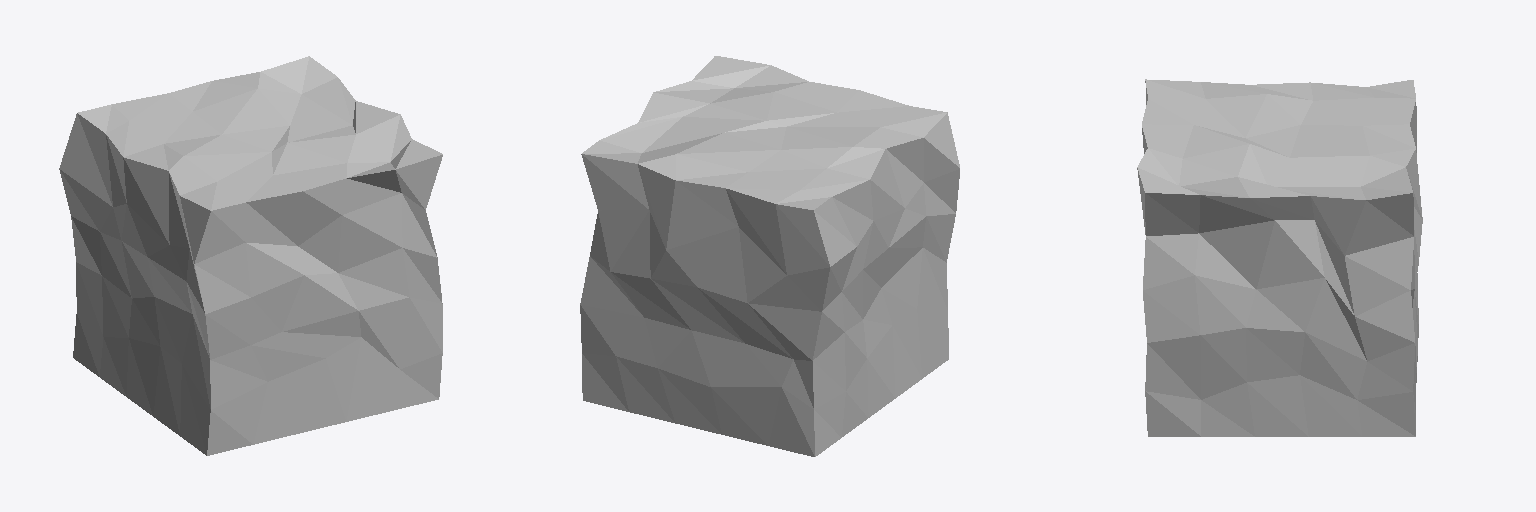
The model's file is Block3.obj.
The picture shows the model from 3 angles: view 1: azimuth 30°, elevation 25°; view 2: azimuth 150°, elevation 25°; view 3: azimuth 270°, elevation 25°; orthographic projection.
Visible parts, largest first — view 1: Cube.000_Cube; view 2: Cube.000_Cube; view 3: Cube.000_Cube.
Part boxes in pixels (x1,y1,x2,y2): Cube.000_Cube: (59, 56, 442, 455); Cube.000_Cube: (580, 56, 959, 456); Cube.000_Cube: (1137, 79, 1422, 436).
Bounding box in the file's own units: 2.23 × 2.03 × 2.13.